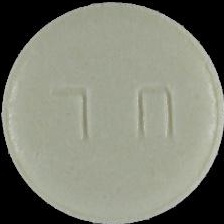16590-434: (0, 0, 224, 224)
